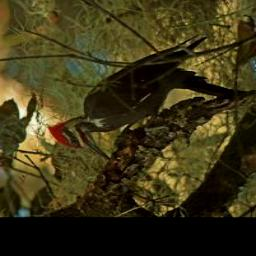Woodpecker: (46, 35, 213, 161)
